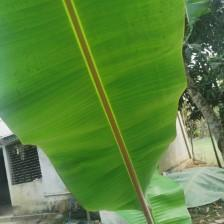healthy: (0, 0, 185, 224), (99, 166, 193, 223), (164, 166, 224, 208)
